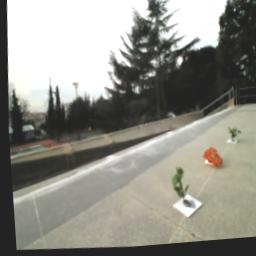herb: (166, 167, 189, 207), (226, 131, 240, 147)
wild: (199, 149, 222, 174)
